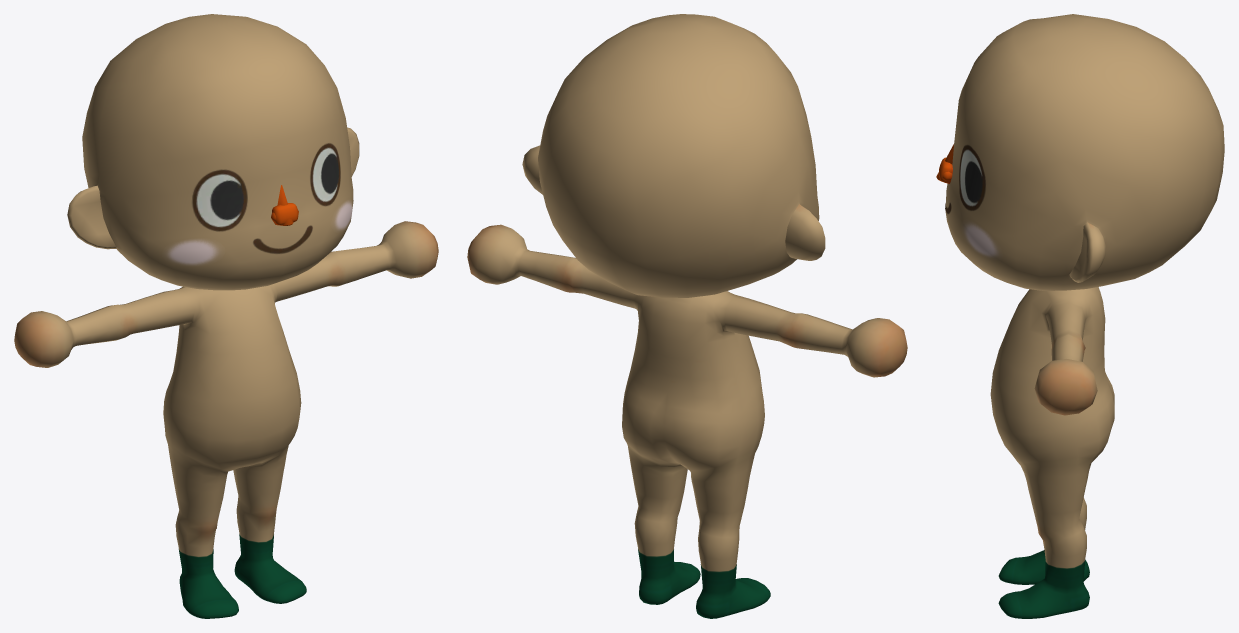
File: villager2.glb
3 renders of one model, left to right at view 1: azimuth 30°, elevation 25°; view 2: azimuth 150°, elevation 25°; view 3: azimuth 270°, elevation 25°, orthographic. The views are drawn at different scales.
Visible parts, largest first — view 1: common\mBody.smd.001, common\DefaultEye.smd.001, common\mEar_R.smd.001, common\mCheek.smd.001; view 2: common\mBody.smd.001, common\mEar_R.smd.001; view 3: common\mBody.smd.001, common\DefaultEye.smd.001, common\mEar_L.smd.001, common\mCheek.smd.001.
Boxes of the visible parts, left/top/right/bottom form: common\mBody.smd.001: left=14, top=14, right=438, bottom=618; common\DefaultEye.smd.001: left=192, top=143, right=340, bottom=231; common\mEar_R.smd.001: left=67, top=185, right=116, bottom=249; common\mCheek.smd.001: left=168, top=201, right=352, bottom=264; common\mBody.smd.001: left=467, top=14, right=907, bottom=618; common\mEar_R.smd.001: left=785, top=204, right=825, bottom=260; common\mBody.smd.001: left=945, top=14, right=1224, bottom=618; common\DefaultEye.smd.001: left=959, top=145, right=985, bottom=210; common\mEar_L.smd.001: left=1069, top=222, right=1105, bottom=282; common\mCheek.smd.001: left=965, top=223, right=996, bottom=256.
Bounding box in the file's own units: 0.9427 × 1.21 × 0.5601.
8 materials, 8 textured.
